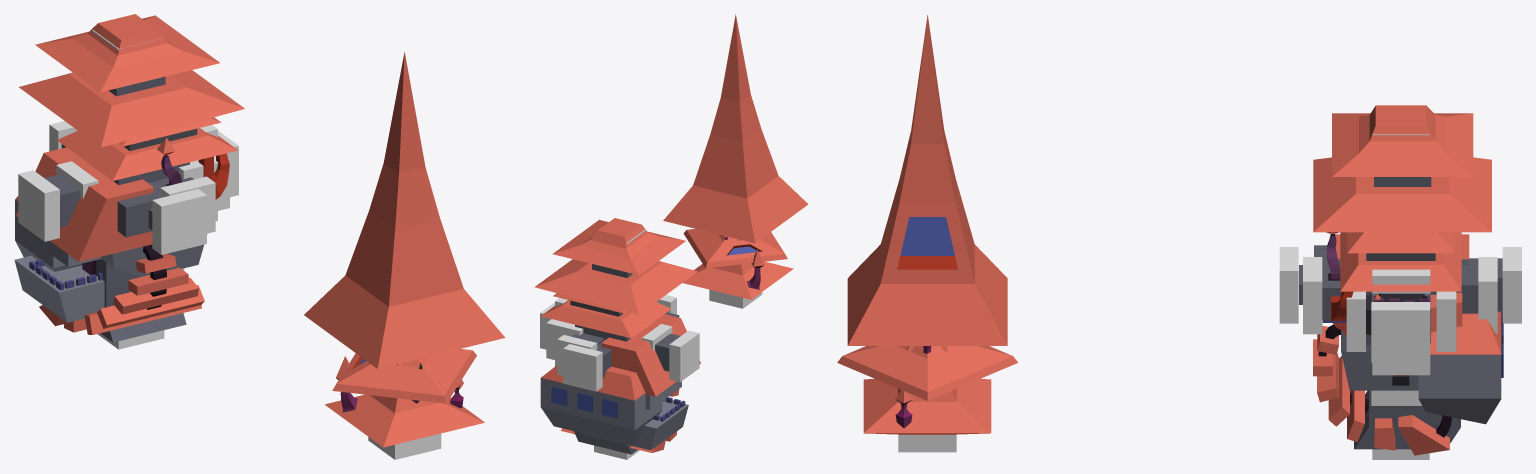
The model's file is Chunks_00.fbx.
The picture shows the model from 3 angles, left to right: view 1: azimuth 30°, elevation 25°; view 2: azimuth 150°, elevation 25°; view 3: azimuth 270°, elevation 25°; orthographic projection. The views are drawn at different scales.
Visible parts, largest first — view 1: Cube.042, Cube.035, Cube.008, Cube.005, Cube.041, Cube.024, PlaceholderConnector.012, PlaceholderConnector.017, Cube.002, Cube.023, Cube.007, PlaceholderConnector.008 (+9 smaller); view 2: Cube.042, Cube.008, Cube.035, Cube.005, Cube.041, Cube.024, PlaceholderConnector.013, PlaceholderConnector.017, PlaceholderConnector.002, PlaceholderConnector.009, Cube.002, PlaceholderConnector.022 (+6 smaller); view 3: Cube.042, Cube.035, Cube.008, Cube.005, Cube.041, Cube.024, PlaceholderConnector.020, Cube.002, Cube.007, PlaceholderConnector.008, PlaceholderConnector.012, PlaceholderConnector.013 (+9 smaller).
Part boxes in pixels (<box>): Cube.042: <box>304,52,505,368</box>; Cube.035: <box>19,14,244,147</box>; Cube.008: <box>14,147,204,334</box>; Cube.005: <box>57,117,237,180</box>; Cube.041: <box>332,349,476,403</box>; Cube.024: <box>324,356,484,447</box>; PlaceholderConnector.012: <box>152,189,206,254</box>; PlaceholderConnector.017: <box>18,170,59,241</box>; Cube.002: <box>96,259,186,342</box>; Cube.023: <box>117,177,193,237</box>; Cube.007: <box>101,244,203,277</box>; PlaceholderConnector.008: <box>160,176,215,233</box>; Cube.042: <box>663,14,808,243</box>; Cube.008: <box>540,314,700,452</box>; Cube.035: <box>534,218,697,314</box>; Cube.005: <box>541,293,671,338</box>; Cube.041: <box>683,229,787,268</box>; Cube.024: <box>683,234,793,299</box>; PlaceholderConnector.013: <box>563,344,602,391</box>; PlaceholderConnector.017: <box>669,330,699,382</box>; PlaceholderConnector.002: <box>546,319,583,360</box>; PlaceholderConnector.009: <box>557,335,597,375</box>; Cube.002: <box>574,431,637,454</box>; PlaceholderConnector.022: <box>709,289,762,308</box>; Cube.042: <box>847,15,1007,345</box>; Cube.035: <box>1313,105,1491,232</box>; Cube.008: <box>1313,234,1503,455</box>; Cube.005: <box>1340,232,1461,291</box>; Cube.041: <box>837,346,1017,400</box>; Cube.024: <box>863,346,991,434</box>; PlaceholderConnector.020: <box>1372,302,1430,362</box>; Cube.002: <box>1354,390,1460,449</box>; Cube.007: <box>1341,330,1418,390</box>; PlaceholderConnector.008: <box>1303,257,1322,334</box>; PlaceholderConnector.012: <box>1279,247,1298,323</box>; PlaceholderConnector.013: <box>1502,247,1521,323</box>.
Bounding box in the file's own units: 1470 × 2650 × 3540.
1 material, 1 textured.
